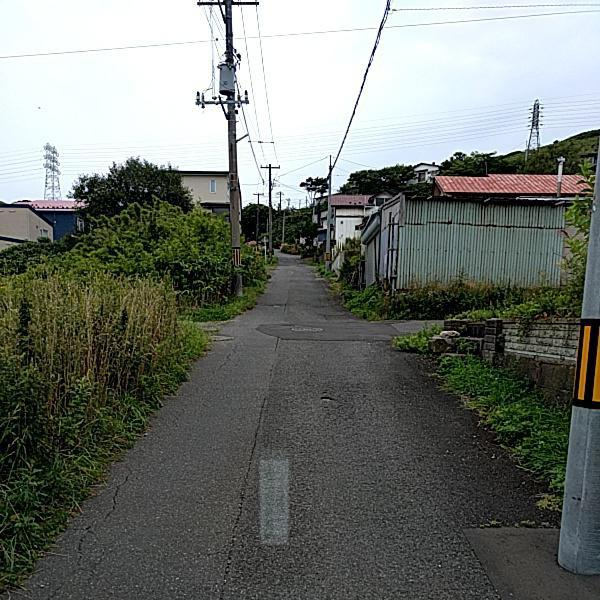D00: (53, 458, 133, 582), (219, 339, 237, 378)
D40: (312, 389, 335, 406)
